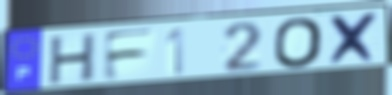1: (165, 27, 186, 75)
2: (220, 20, 265, 74)
F: (100, 27, 158, 83)
H: (46, 31, 99, 87)
O: (272, 16, 325, 70)
X: (327, 11, 383, 67)
